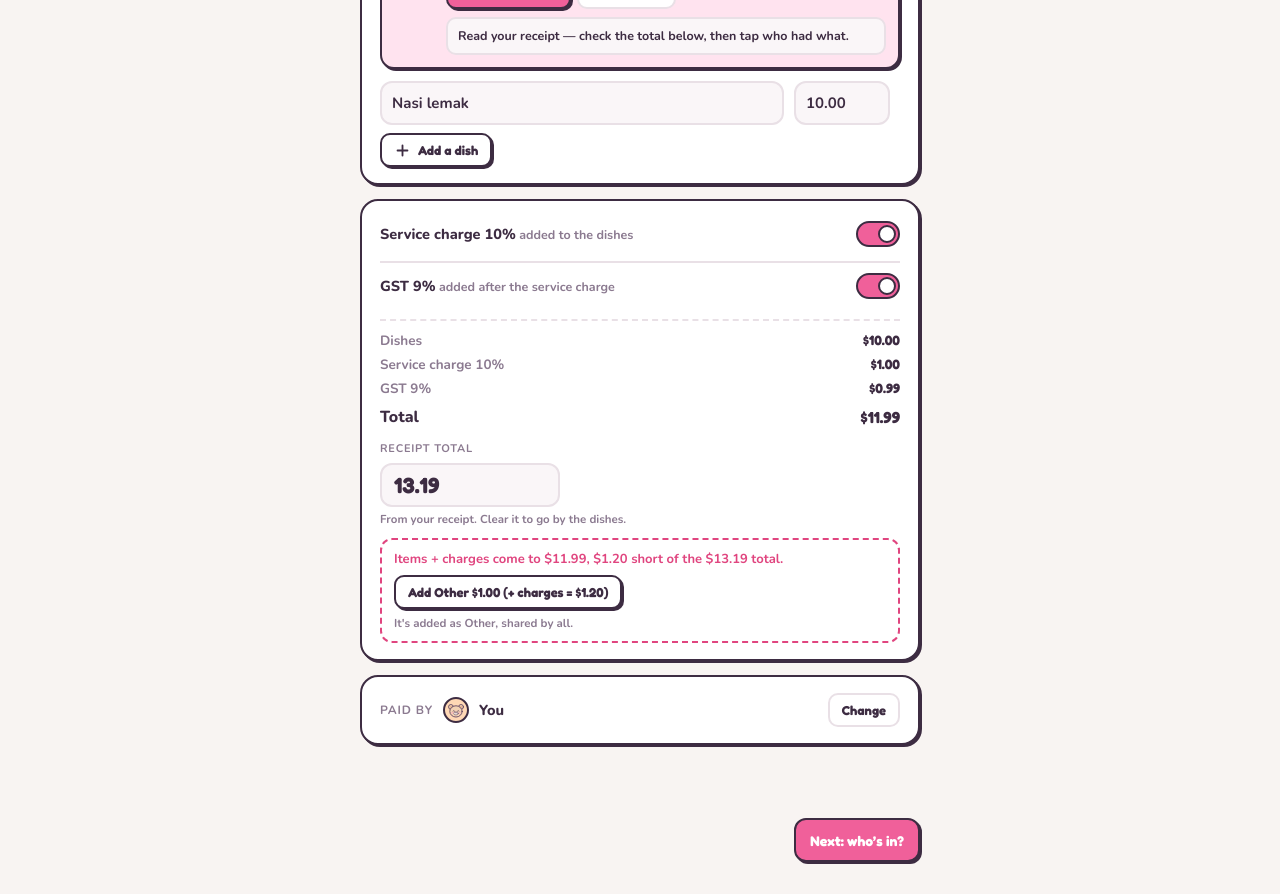
Test case: Quick split: making one › after a scan that misses a line, checks the dishes against the receipt total and never goes on with less
Earlier steps of the test are not shown.
(page scrolled)
Expected: the field labelled "Receipt total" holds "13.19", [380,463,560,507]
Expected: the text "Items + charges come to $11.99, $1.20 short of the $13.19 total." is shown once, [394,550,783,569]
Click the button "Next: who’s in?": (857, 840) [794,818,920,862]
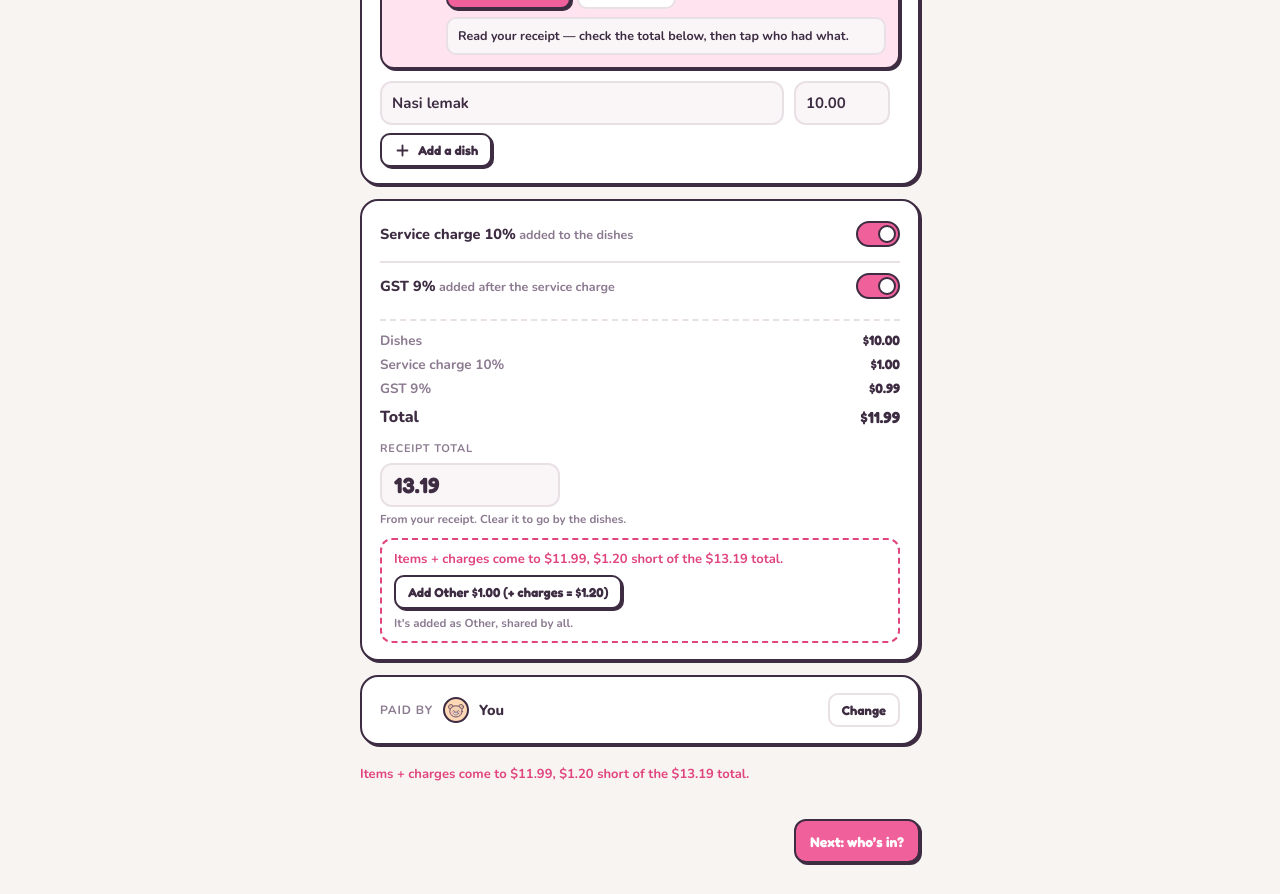
Expected: the field labelled "Receipt total" is shown, [380,463,560,507]
Now the message "Items + charges come to $11.99, $1.20 short of the $13.19 total." is shown, box [360,766,749,784]
Click the button "Add Other $1.00 (+ charges = $1.20)": (508, 592) [394,575,622,609]
(page scrolled)
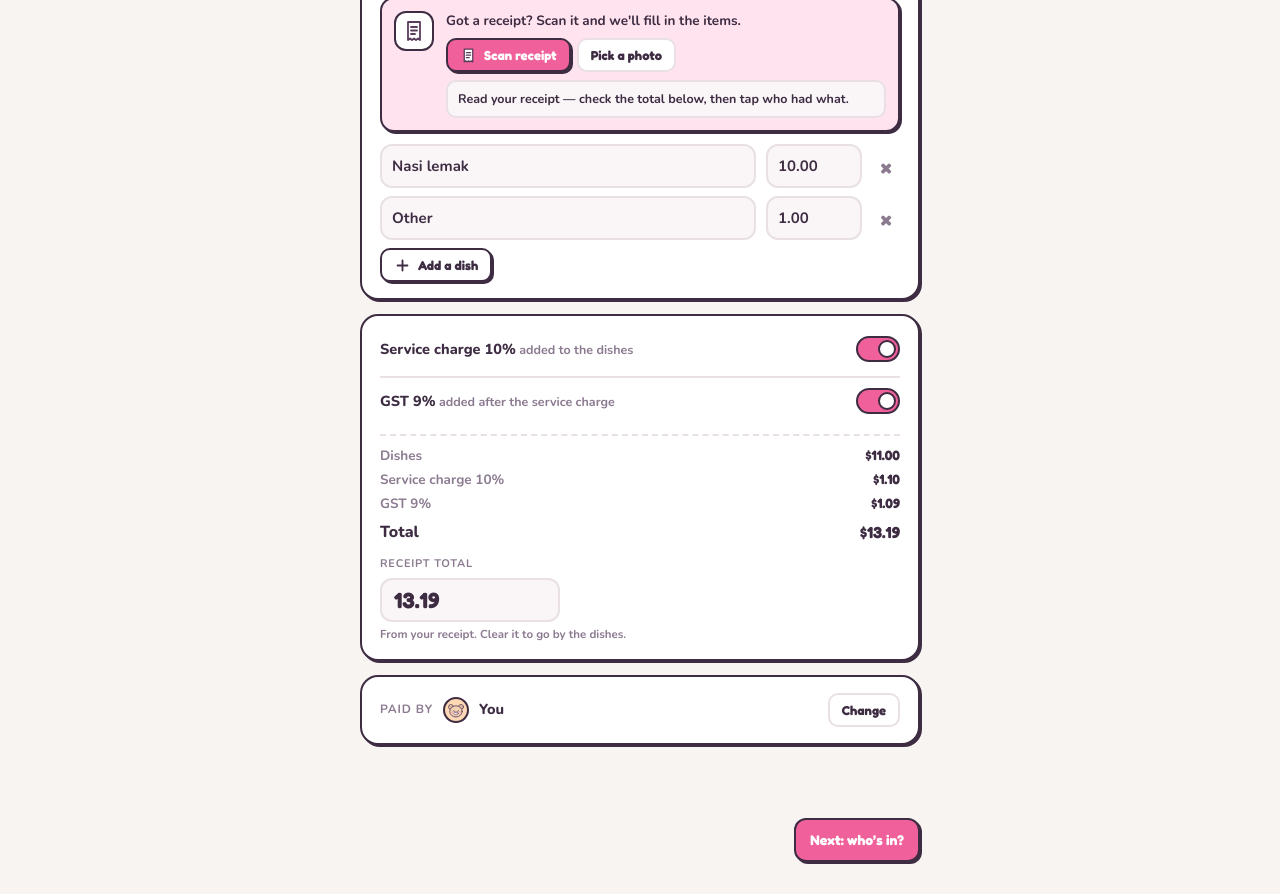
Now the 2nd field named "Dish name" holds "Other", box [380,196,756,240]
Now the text "$13.19" is shown, box [860,521,900,544]
Click the button "Next: who’s in?": (857, 840) [794,818,920,862]
(page scrolled)
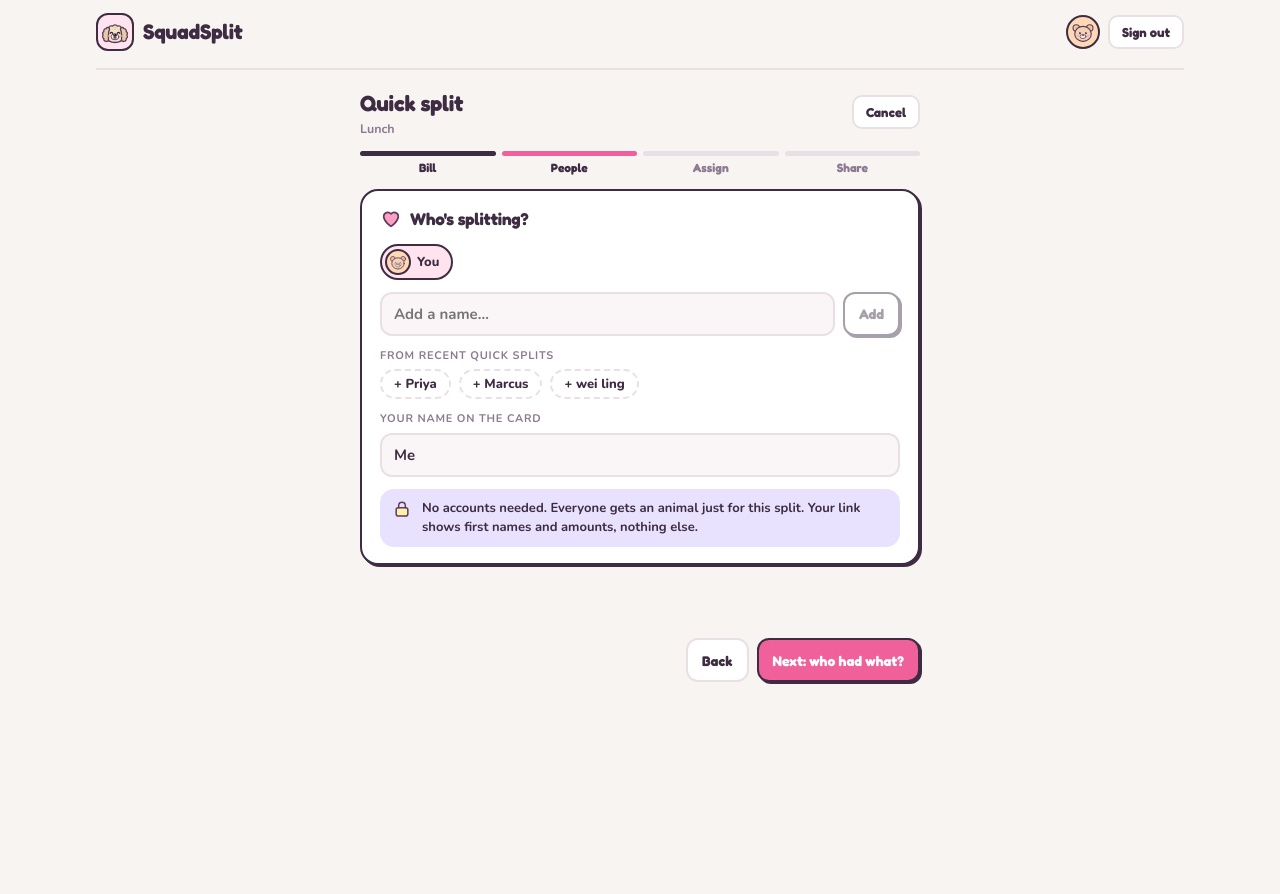
Now the message "Read your receipt — check the total below, then tap who had what." is gone
Now the label labelled "Receipt total" is gone
